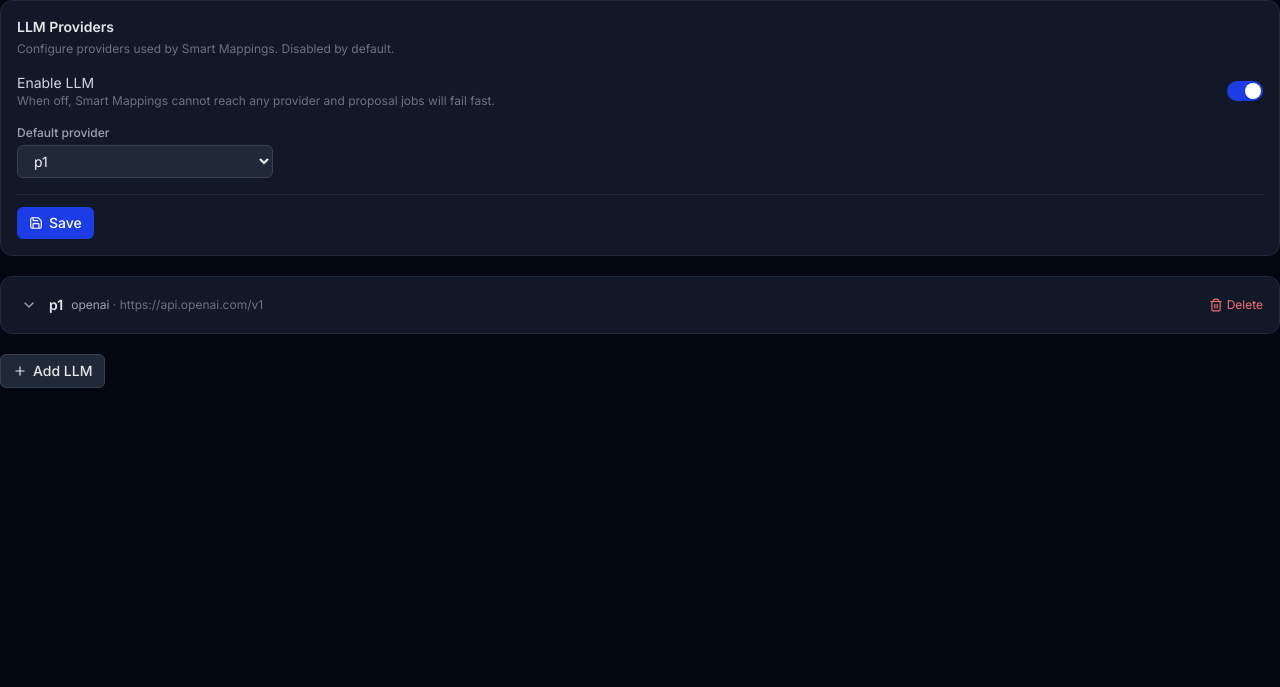
Test case: ProviderCard (027 step 5: Discover-then-Probe per-card surface) › Save aborts WITHOUT persisting when discovery fails after a base_url change (prompts-036)
The width and height of the screenshot is (1280, 687).
Expected: the heading "p1" is shown, 49,295 -> 63,315
Click the button named "Expand p1" at coordinates (29, 305), box 17,293 -> 41,317
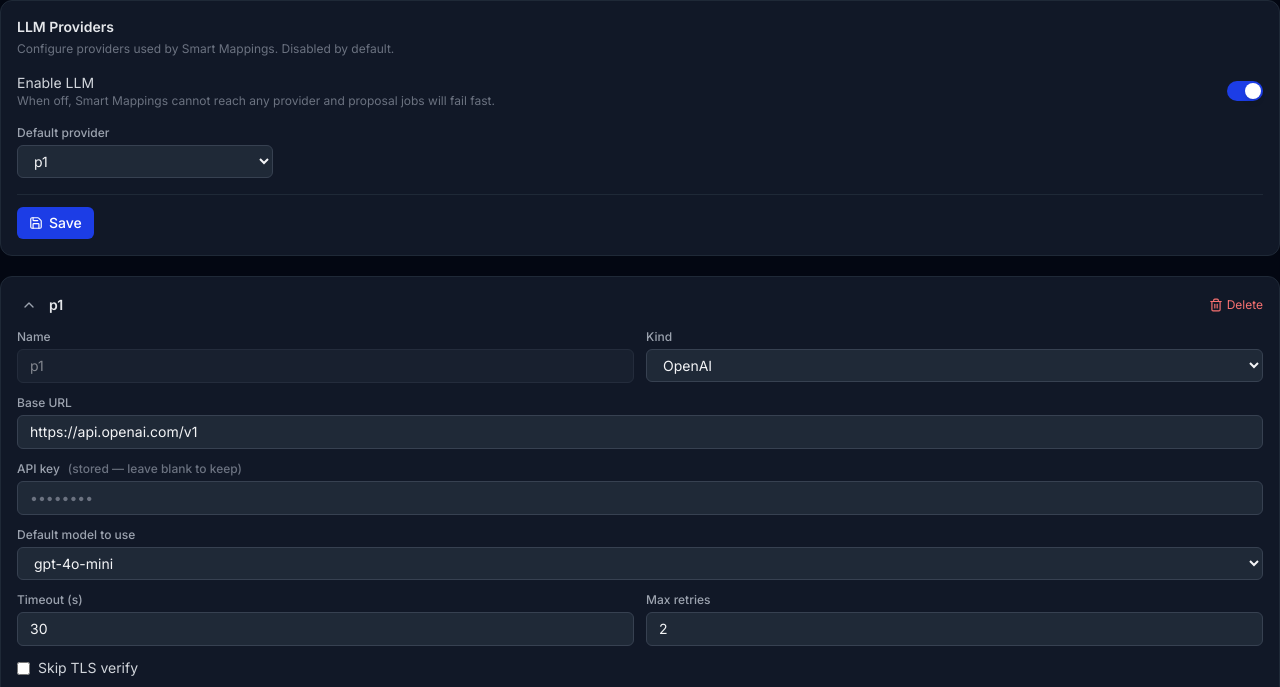
Replace the text in the 2nd field showing "https://api.openai.com/v1" with "https://proxy.internal/v1" at coordinates (640, 432), box 17,415 -> 1263,449
(page scrolled)
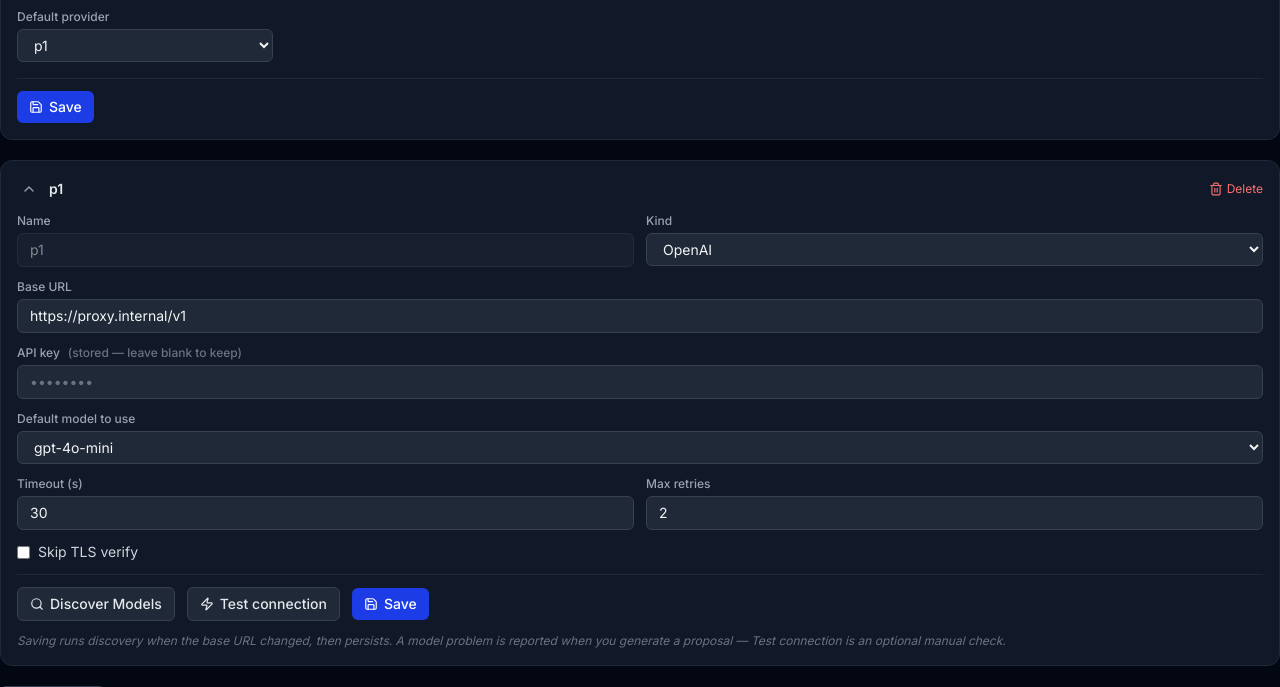
Click the button "Save" below "Skip TLS verify" at coordinates (390, 604), box 352,588 -> 429,620
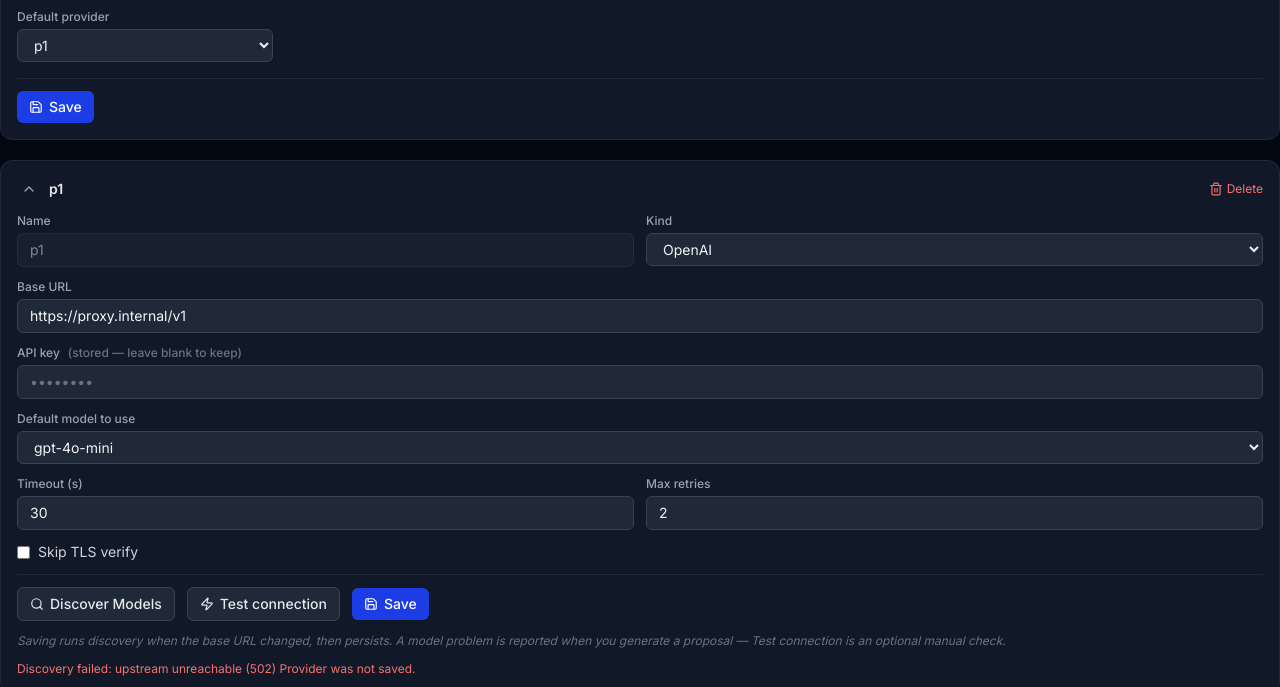
Now the message with test id "card-save-warning-p1" shows "Discovery failed", box 17,661 -> 416,676
Now the message with test id "card-save-warning-p1" shows "not saved", box 17,661 -> 416,676
